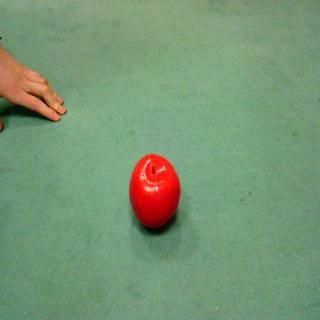apple: (120, 152, 186, 236)
